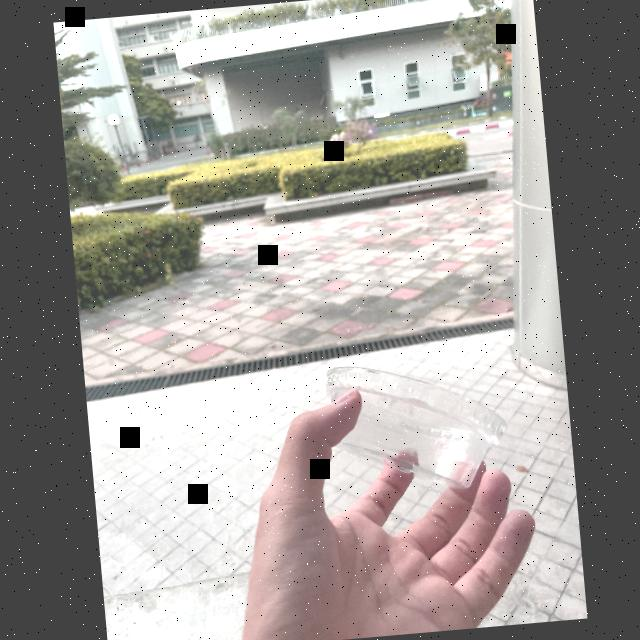plastic_cup_lid: (310, 347, 516, 496)
